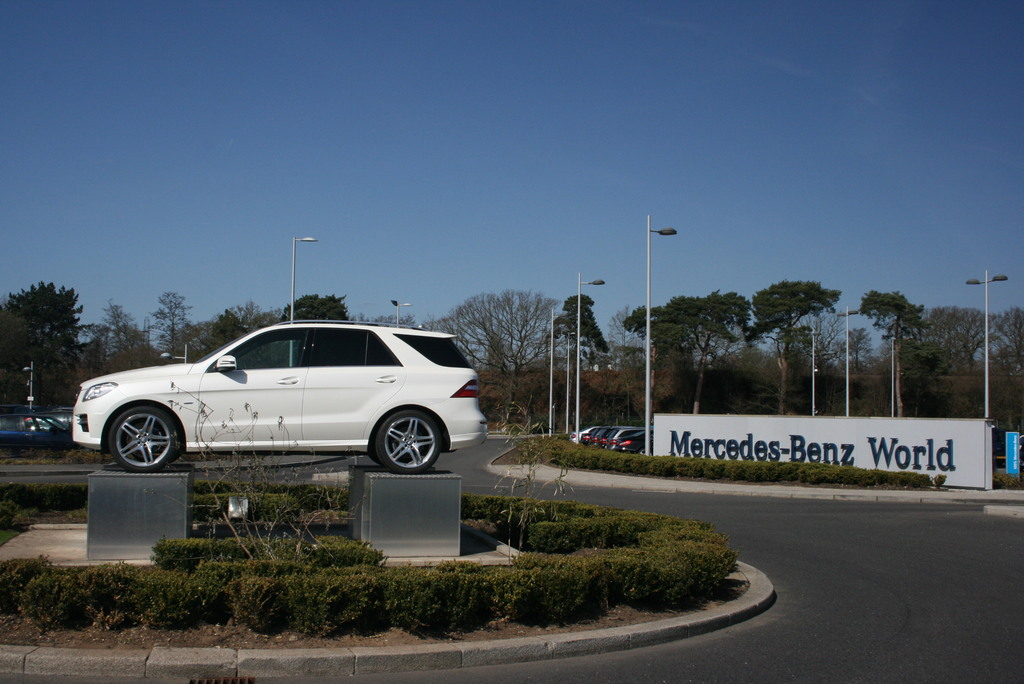Car: (70, 314, 497, 480), (0, 403, 80, 452), (570, 425, 654, 454)
